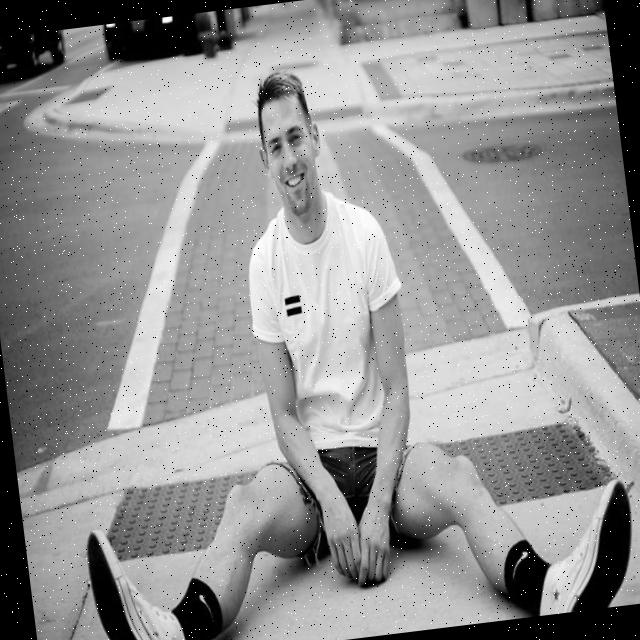Happiness: (254, 86, 327, 219)
